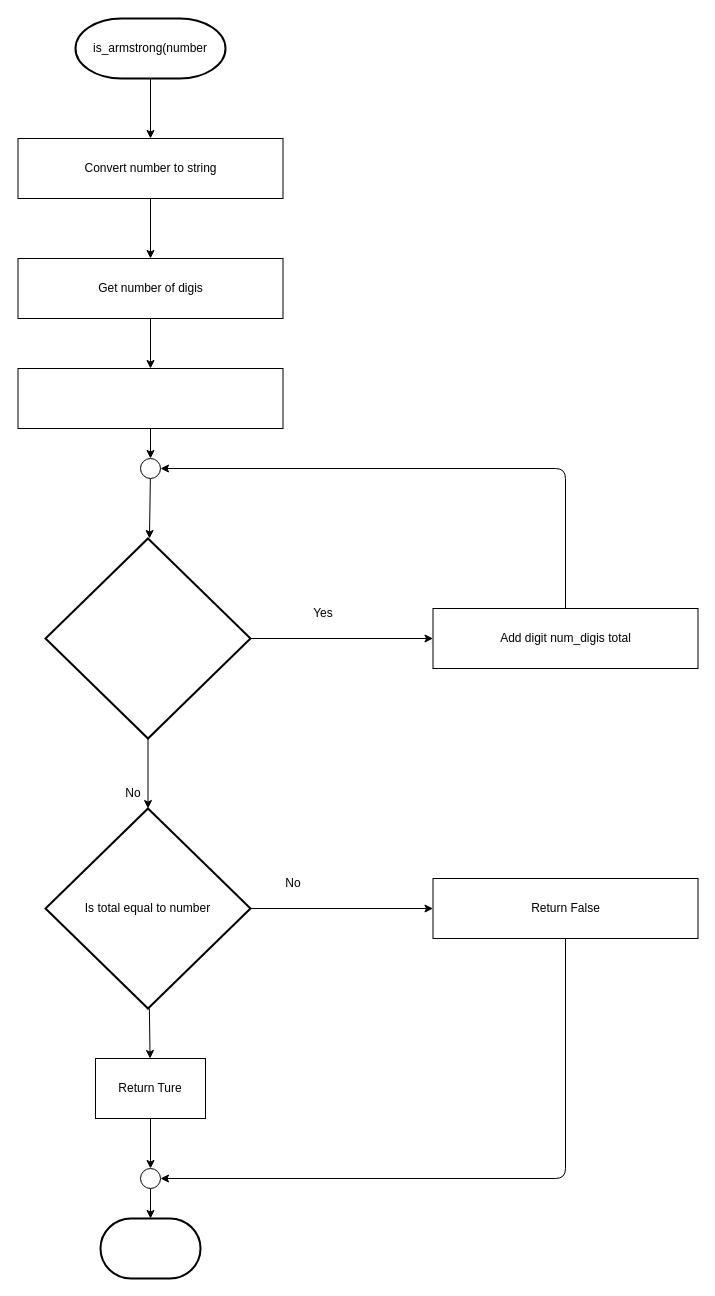
This 715x1296 diagram has some shape labels left out. Here are the shapes that lost their labels. From the top down, the box of each, then its label:
(17, 368, 283, 428): Initialize total to 0
(44, 537, 251, 739): For each didiy in taing
(99, 1217, 201, 1279): stop
